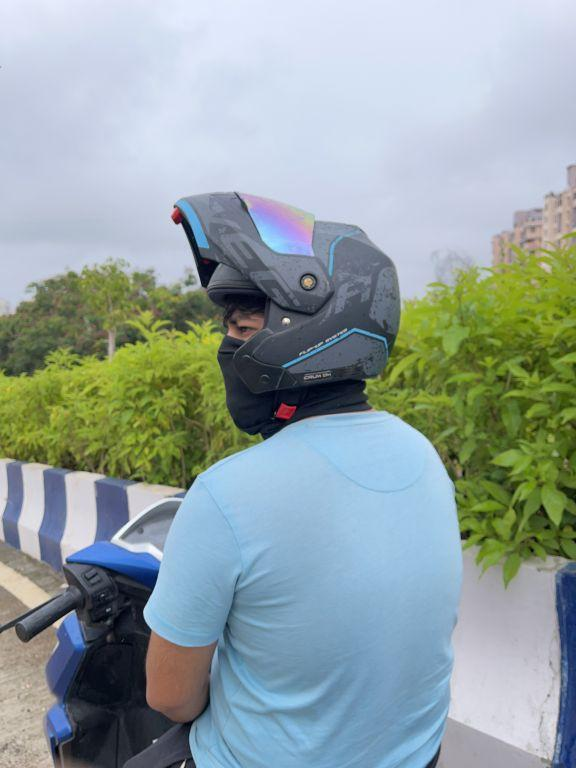helmet: (162, 187, 410, 411)
